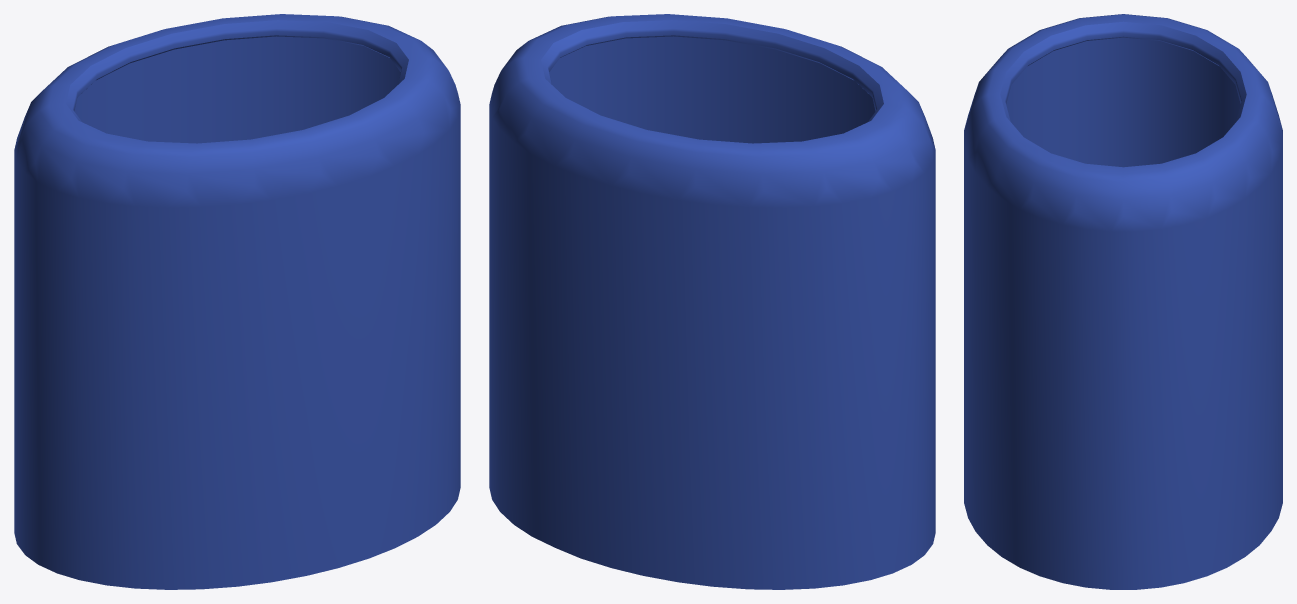
File: ゴミ箱.fbx
3 renders of one model, left to right at view 1: azimuth 30°, elevation 25°; view 2: azimuth 150°, elevation 25°; view 3: azimuth 270°, elevation 25°, orthographic. The views are drawn at different scales.
Parts seen in each view (by area): view 1: pCylinder5; view 2: pCylinder5; view 3: pCylinder5.
Part boxes in pixels (x1,y1,x2,y2): pCylinder5: (14,14,460,589); pCylinder5: (489,14,935,589); pCylinder5: (964,14,1282,589).
Size of the model in its own units: 1.46 by 1.45 by 1.04.
